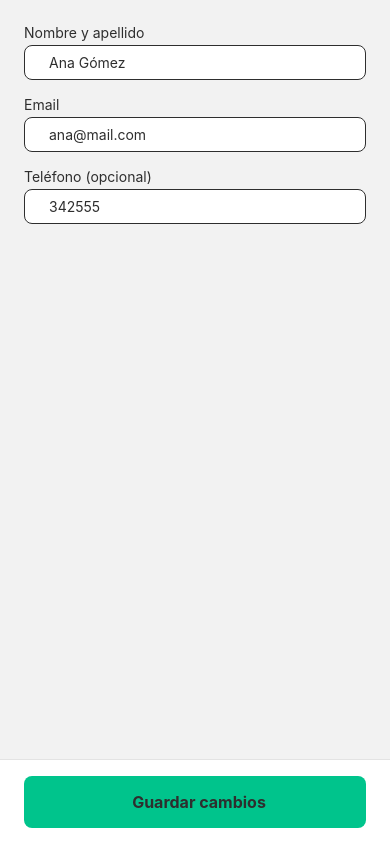
Test case: FormularioUsuario › edita nombre, email y teléfono de un cliente y avisa
Replace the text in the field named "Nombre y apellido" with "Ana María Gómez" at (199, 62), box [49,46,349,79]
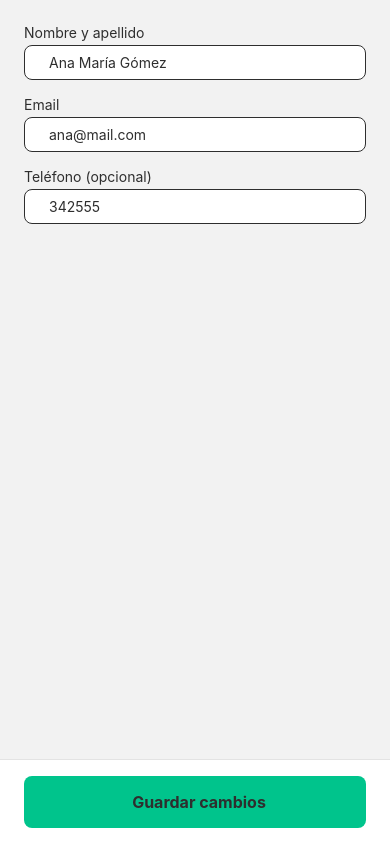
Replace the text in the field named "Teléfono (opcional)" with " 342 999 " at (199, 206), box [49,190,349,223]
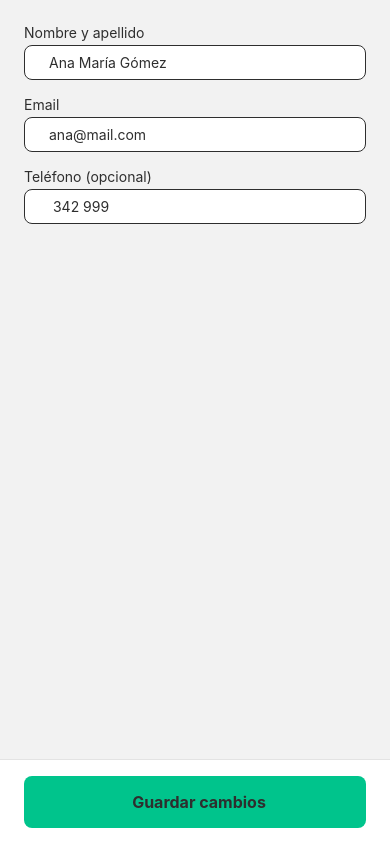
Click the button "Guardar cambios".
click(195, 802)  # box [24,776,366,828]
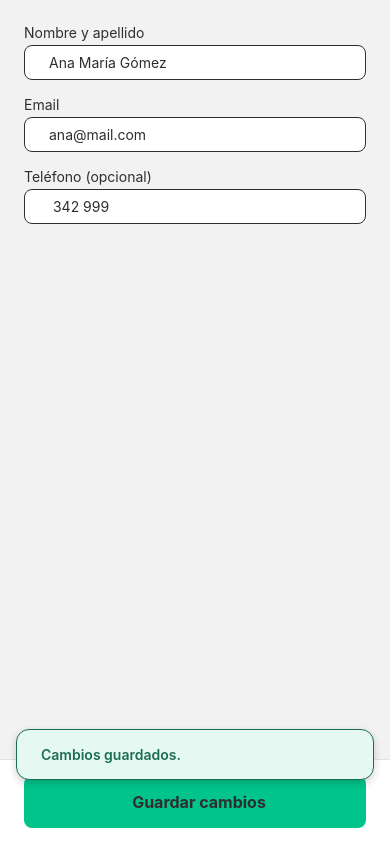
Now the text "Cambios guardados." is shown, box [41,746,181,763]
